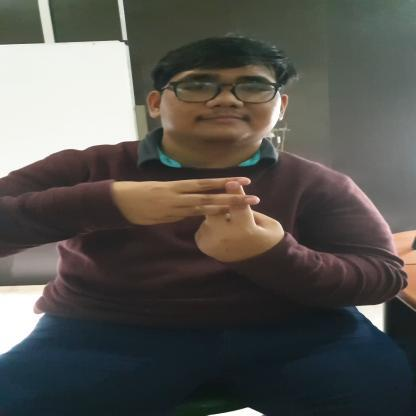B: (146, 172, 292, 261)
